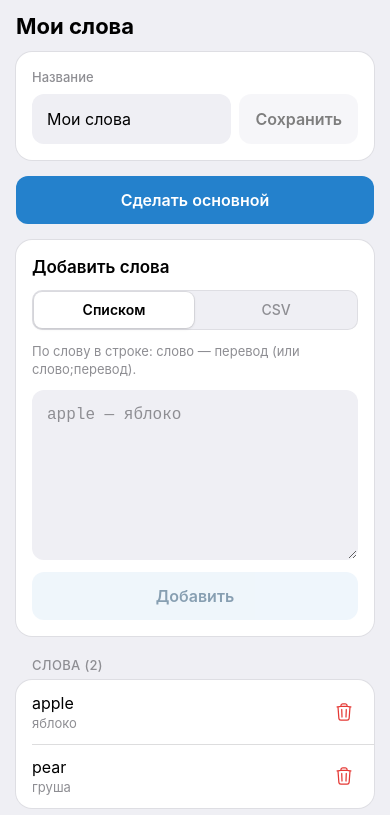
Test: DeckEditView › adding words › marks the report with a success icon and every dropped line with a warning icon
Type "plum — слива" into the text box with test id "text-input" at (195, 475), box [32,390,358,560]
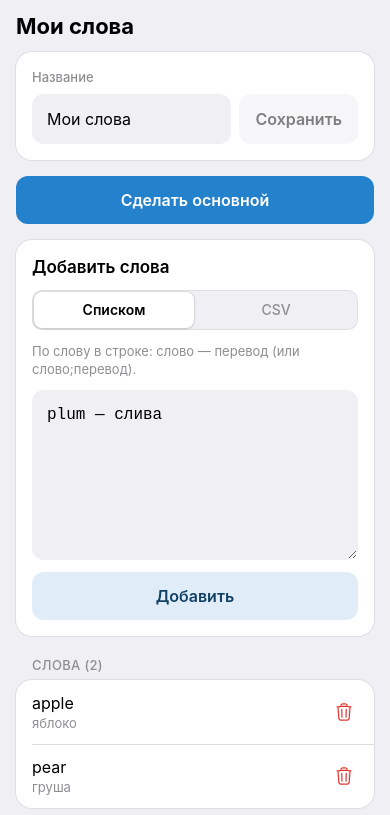
Click the button with test id "add-btn" at (195, 596), box [32,572,358,620]
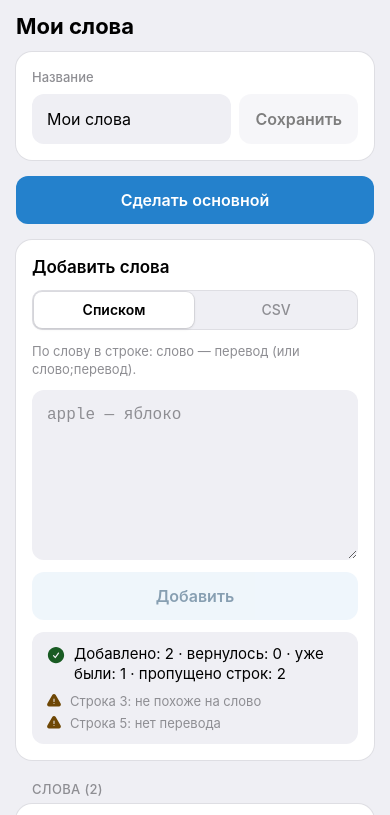
Now the number of list items is 2, box [46,693,261,709]; [46,715,221,731]
